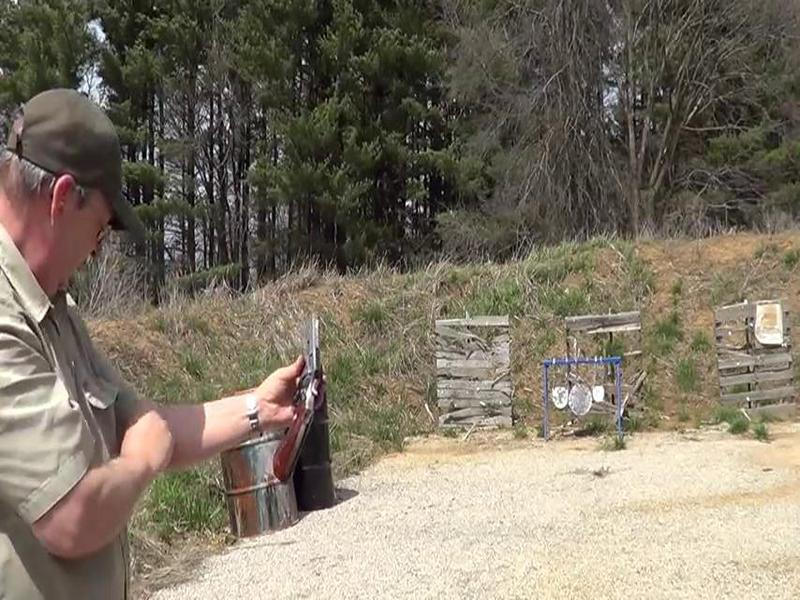Revolver: (257, 301, 347, 485)
